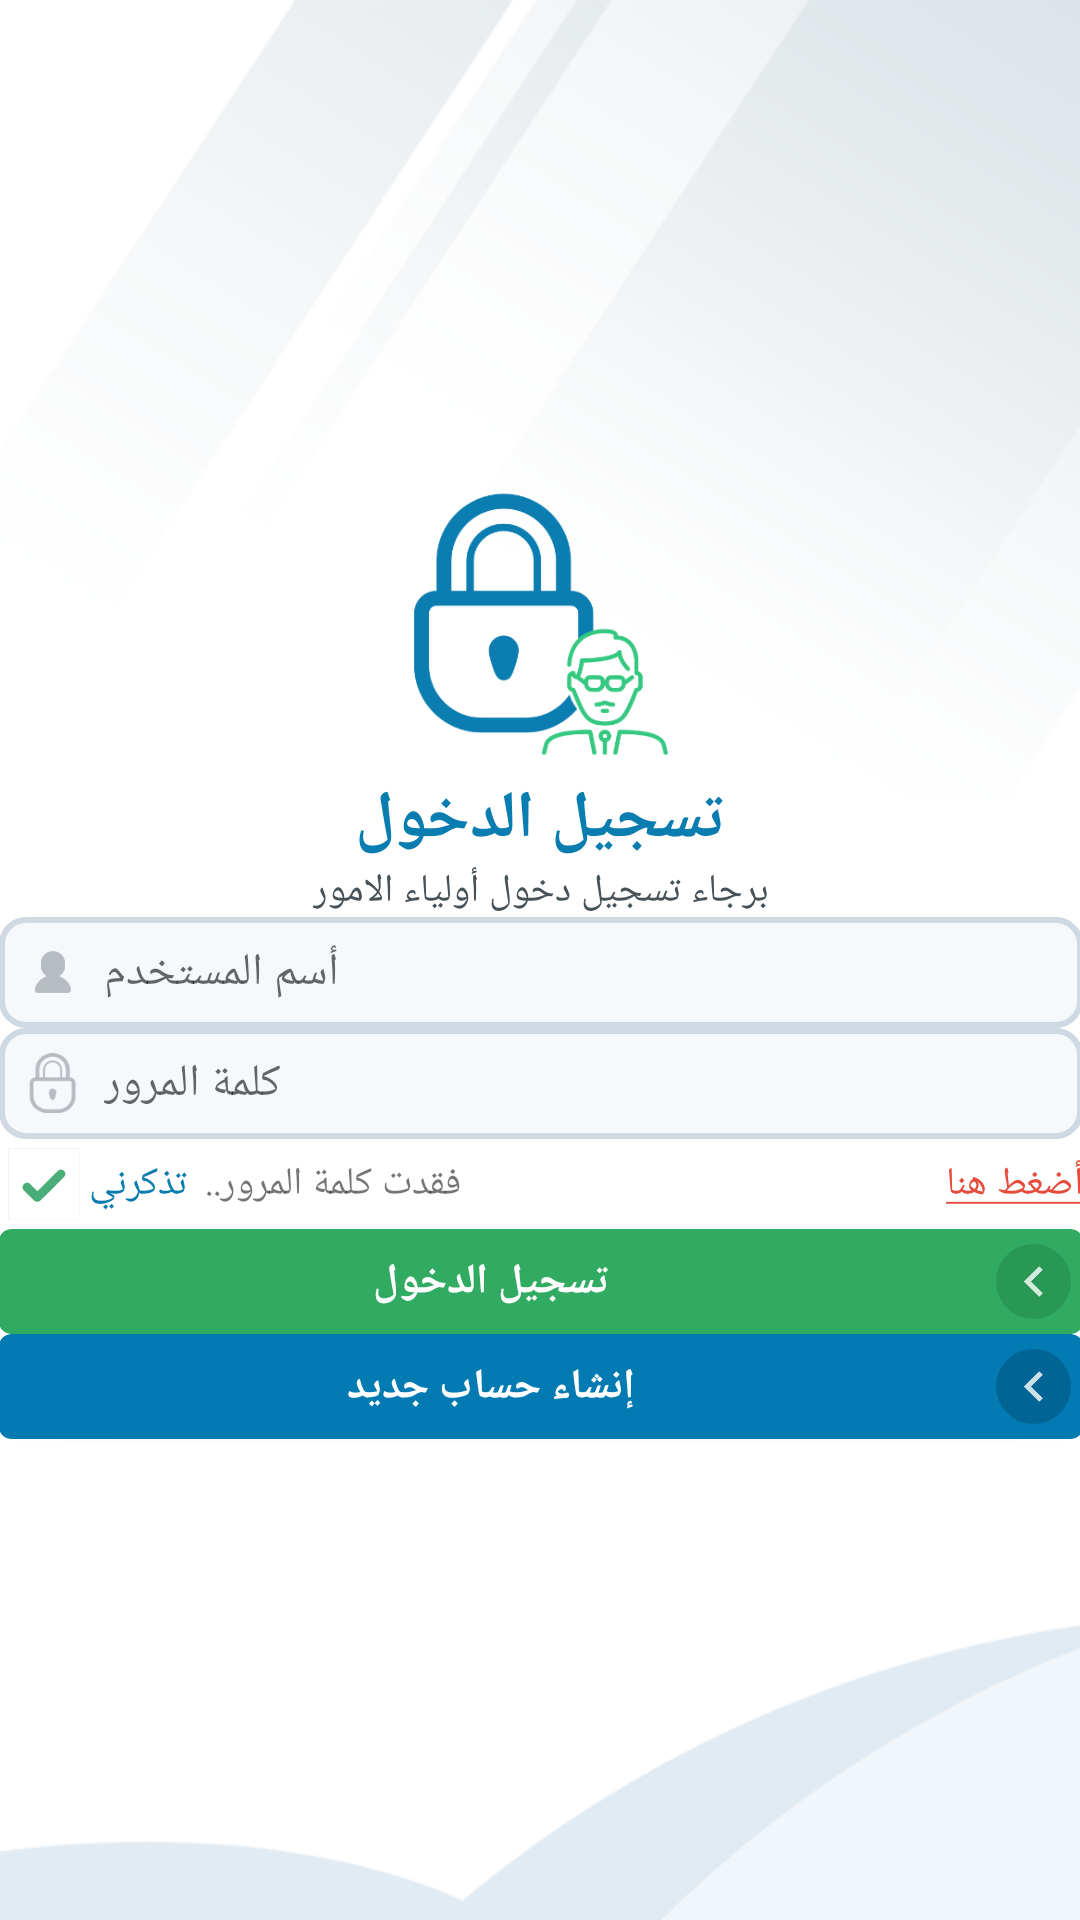

Icon click points for this 1080px x 1920px phone screenshot, format (x,y):
pro arrow: (1033,1281), (1033,1386)
re password: (53,1083)
re username: (53,972)
